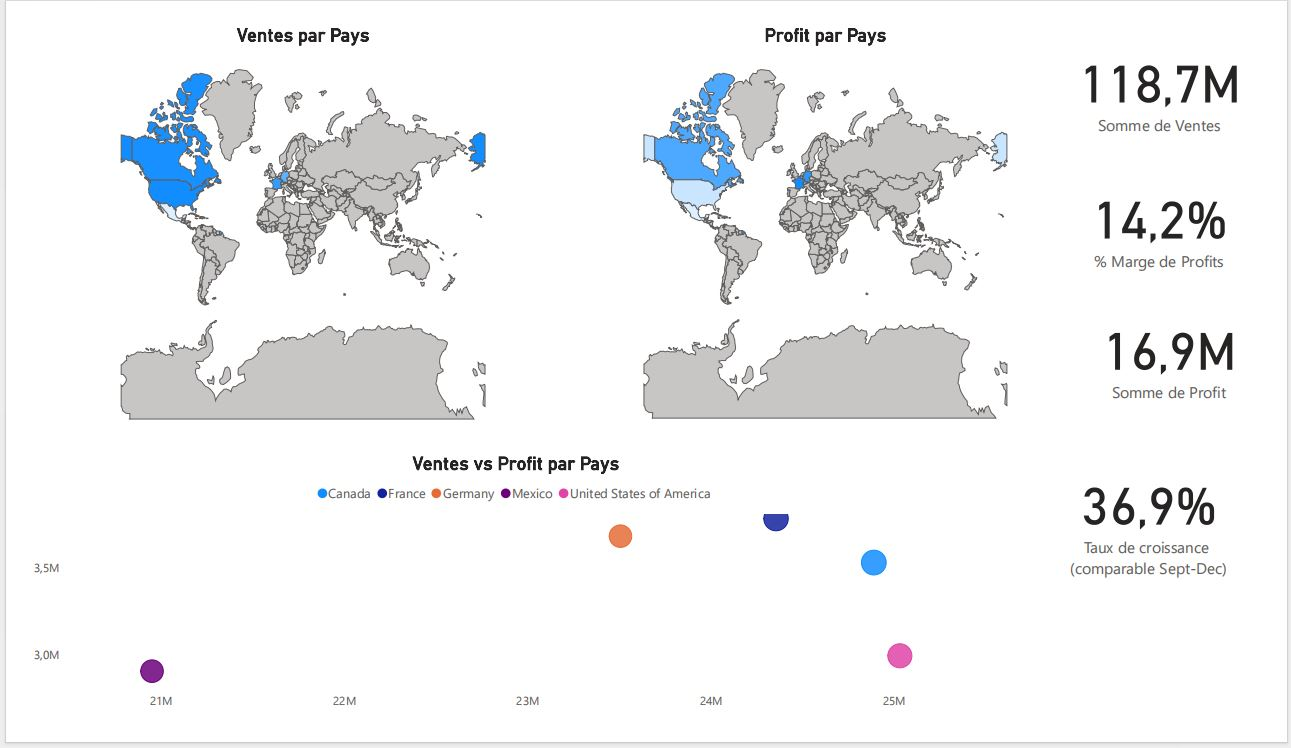

The dashboard page shown, as its layout file describes it:
{"tool":"powerbi","page":{"name":"Performance géographique","canvas":[1280,720],"ordinal":6},"visuals":[{"type":"card","title":"Chiffre d''affaires","fields":{"Values":["Sum(financials.Ventes)"]},"box":[1064.7,0,214.7,132.4],"z":0},{"type":"card","title":"Profit Total","fields":{"Values":["Sum(financials.Profit)"]},"box":[1064.1,282.8,214.1,134.4],"z":1000},{"type":"card","title":"Marge bénéficiaire (%)","fields":{"Values":["financials.% Marge de Profits"]},"box":[1064.1,132.8,215.6,150],"z":2000},{"type":"card","title":"Taux de croissance (comparaison septembre-décembre)","fields":{"Values":["financials.Taux de croissance (comparable Sept-Dec)"]},"box":[1043.1,406.9,236.2,193.1],"z":3000},{"type":"shapeMap","title":"Ventes par Pays","fields":{"Category":["financials.Country"],"Value":["Sum(financials. Sales)"]},"box":[0,0,567.6,433.8],"z":4000},{"type":"shapeMap","title":"Profit par Pays","fields":{"Category":["financials.Country"],"Value":["Sum(financials.Profit)"]},"box":[567.2,0,517.2,432.8],"z":5000},{"type":"scatterChart","title":"Chiffre d''affaires et profit par pays","fields":{"X":["Sum(financials.Ventes)"],"Y":["Sum(financials.Profit)"],"Size":["Sum(financials.Unité vendues)"],"Category":["financials.Pays"],"Series":["financials.Pays"]},"box":[0,444.4,1008.9,275.6],"z":6000}]}

Visuals, with their boxes in screenshot pixels (x1, y1, x2, y2), scaled from the page's 1280x720 canvas onto the 1291x748 screenshot:
"Chiffre d''affaires" card: (1074, 0, 1290, 138)
"Profit Total" card: (1073, 294, 1289, 433)
"Marge bénéficiaire (%)" card: (1073, 138, 1290, 294)
"Taux de croissance (comparaison septembre-décembre)" card: (1052, 423, 1290, 623)
"Ventes par Pays" shapeMap: (0, 0, 572, 451)
"Profit par Pays" shapeMap: (572, 0, 1094, 450)
"Chiffre d''affaires et profit par pays" scatterChart: (0, 462, 1018, 747)
